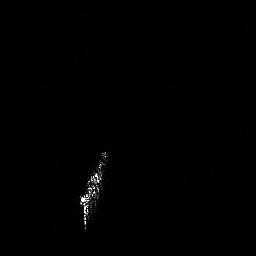ship: (75, 148, 114, 233)
